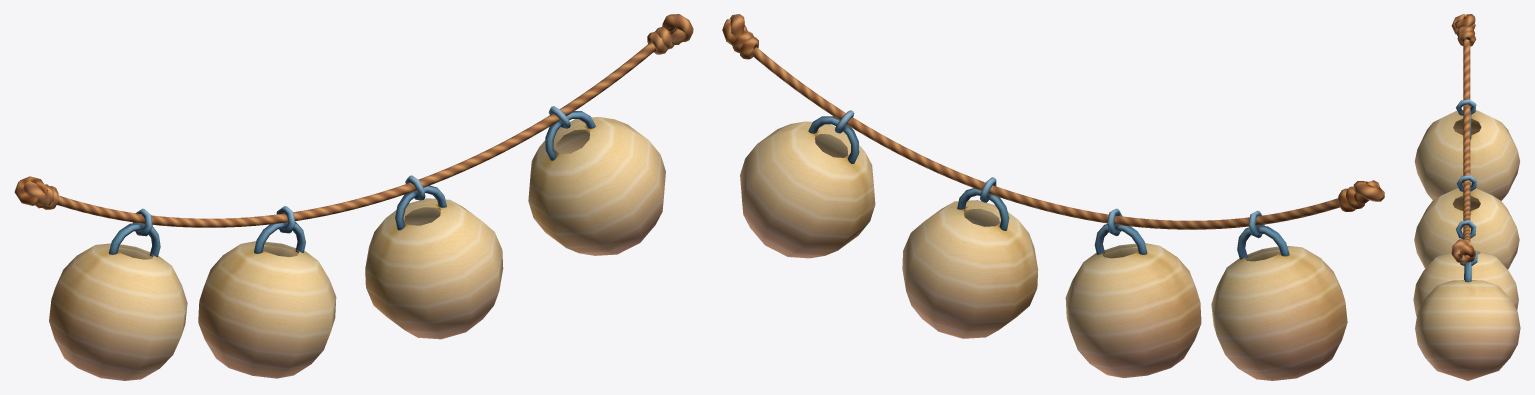
Rendered from SE_Lampions_02b.fbx.
3 views of the same model, side by side, from view 1: azimuth 30°, elevation 25°; view 2: azimuth 150°, elevation 25°; view 3: azimuth 270°, elevation 25° (orthographic). The views are drawn at different scales.
Visible parts, largest first — view 1: SE_Lampions_02b; view 2: SE_Lampions_02b; view 3: SE_Lampions_02b.
Part boxes in pixels (x1,y1,x2,y2): SE_Lampions_02b: [14, 14, 693, 380]; SE_Lampions_02b: [722, 14, 1384, 380]; SE_Lampions_02b: [1413, 14, 1520, 380].
Bounding box in the file's own units: 12.09 × 4.52 × 2.26.
